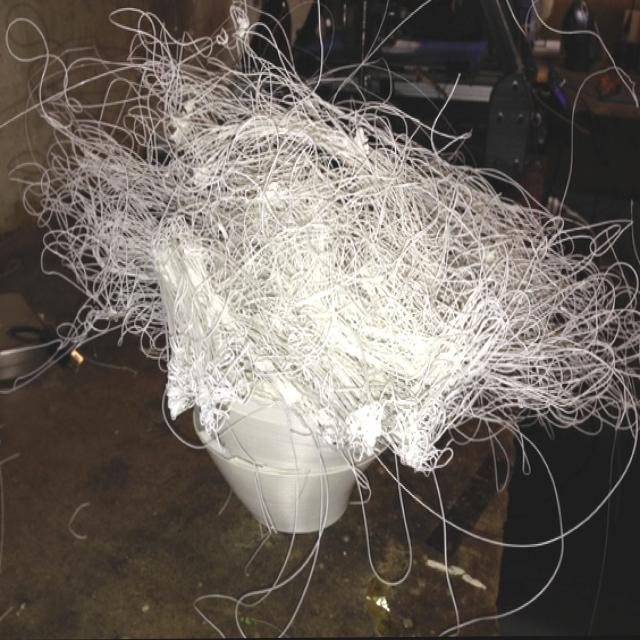spaghetti: (19, 15, 640, 494)
